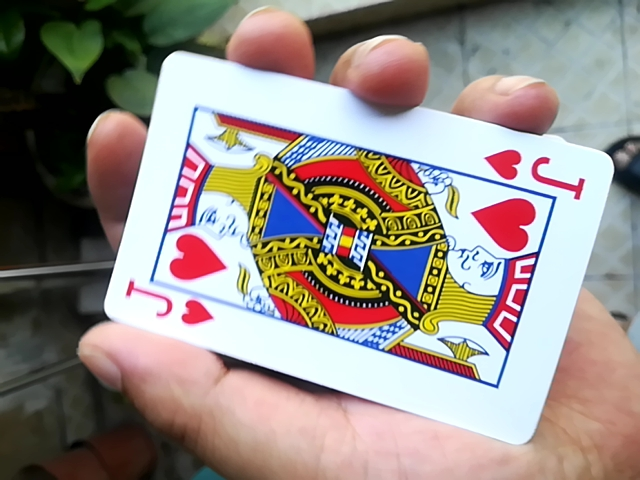hx j: (84, 50, 613, 445)
